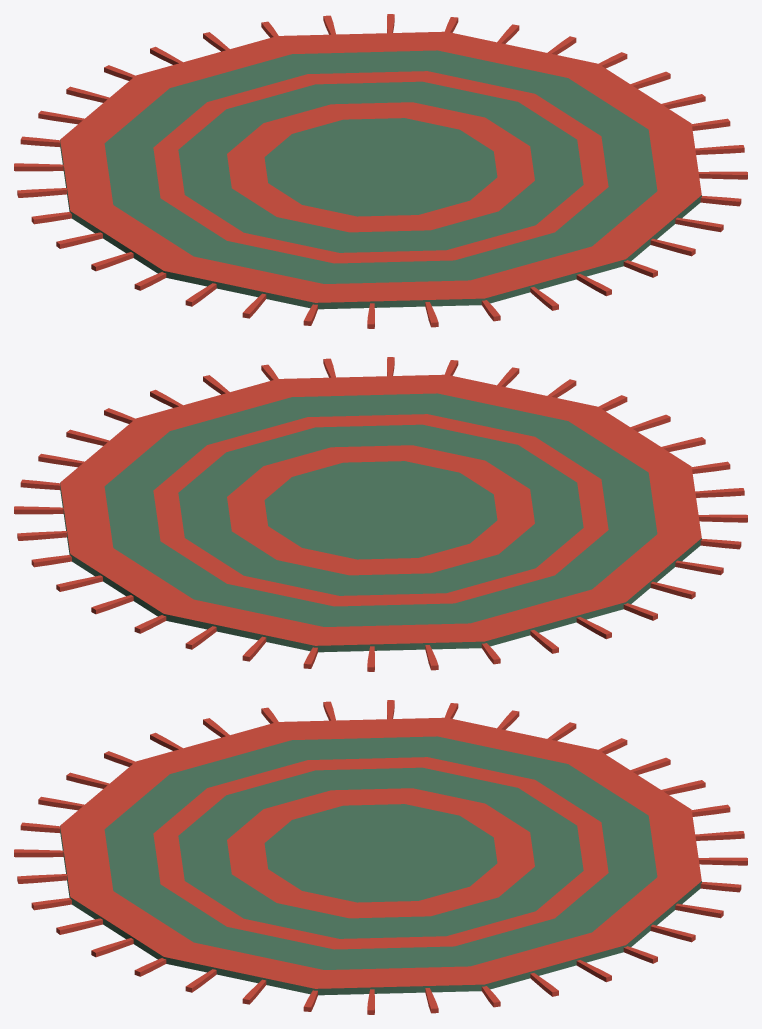
Rendered from Carpet_2__1_.glb.
3 views of the same model, one above another, from view 1: azimuth 30°, elevation 25°; view 2: azimuth 150°, elevation 25°; view 3: azimuth 270°, elevation 25° (orthographic).
Parts seen in each view (by area): view 1: Carpet_2__1_; view 2: Carpet_2__1_; view 3: Carpet_2__1_.
Part boxes in pixels (left/top/right/bottom): Carpet_2__1_: left=14, top=14, right=747, bottom=328; Carpet_2__1_: left=14, top=357, right=747, bottom=671; Carpet_2__1_: left=14, top=700, right=747, bottom=1014.
Bounding box in the file's own units: 2.43 × 0.0238 × 2.43.
Materials: 1 (1 with a texture image).
